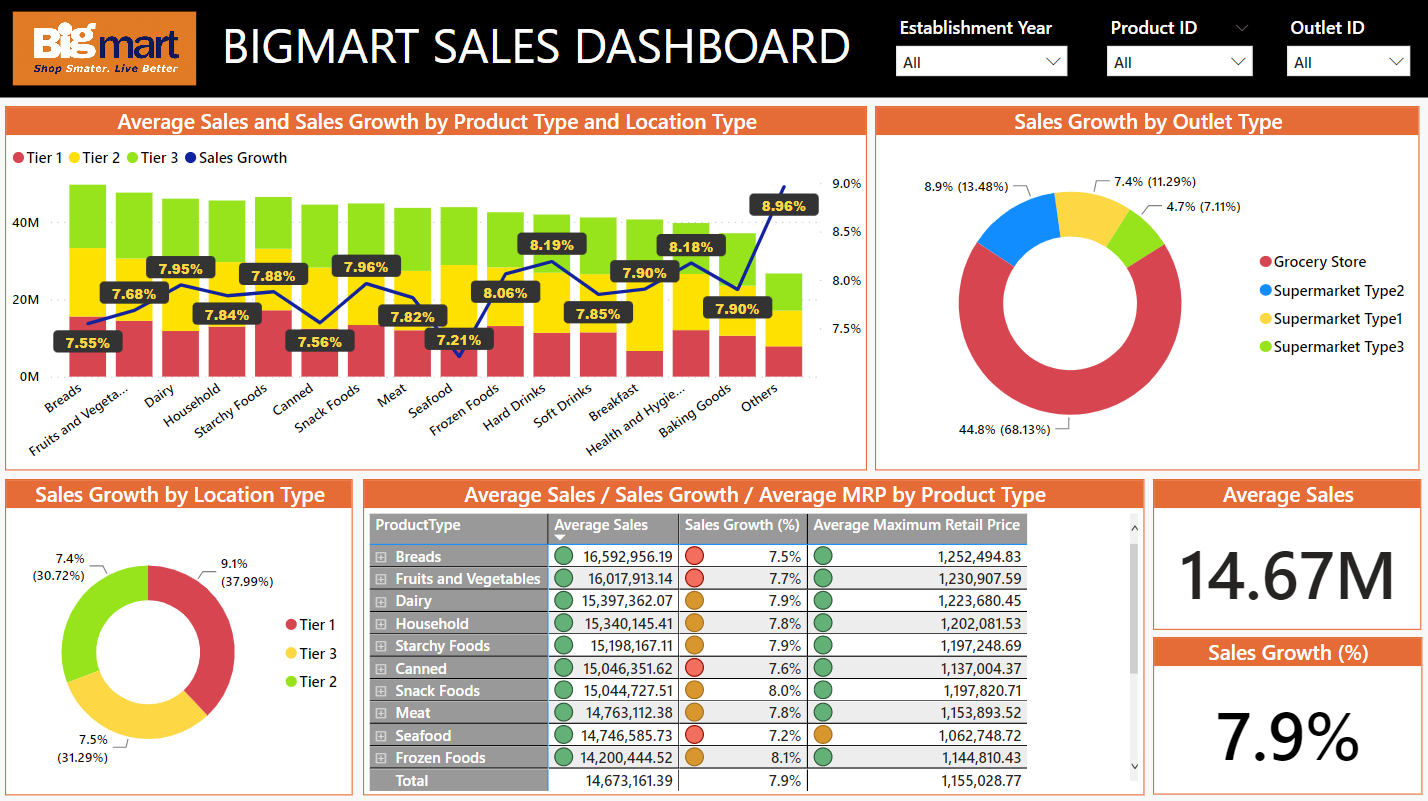

What the dashboard file says about the page in this screenshot:
{"tool":"powerbi","page":{"name":"Page 1","canvas":[1280,720],"ordinal":0},"visuals":[{"type":"shape","box":[0,0,1280,89.5],"z":0},{"type":"image","box":[6.8,6.8,177,75.9],"z":1000},{"type":"textbox","box":[195.5,6.8,589.4,75.9],"z":2000},{"type":"lineStackedColumnComboChart","title":"Average Sales and Sales Growth by Product Type and Location Type","fields":{"Category":["Product.ProductType"],"Series":["Sales.LocationType"],"Y":["Avg(Sales.Sales)"],"Y2":["Sales.Sales Growth (%)"]},"box":[7.2,96.6,771,326.5],"z":3000},{"type":"donutChart","title":"Sales Growth by Outlet Type ","fields":{"Category":["Outlet.OutletType"],"Y":["Sales.Sales Growth (%)"]},"box":[785.3,96.6,487.5,326.5],"z":4000},{"type":"donutChart","title":"Sales Growth by Location Type ","fields":{"Category":["Sales.LocationType"],"Y":["Sales.Sales Growth (%)"]},"box":[6.8,429.9,311.2,283],"z":5000},{"type":"pivotTable","title":"Average Sales / Sales Growth / Average MRP by Product Type","fields":{"Rows":["Product.ProductType","Outlet.OutletType","Sales.LocationType"],"Values":["Avg(Sales.Sales)","Sales.Sales Growth (%)","Avg(Sales.MRP)"]},"box":[327.8,429.9,699.3,283],"z":6000},{"type":"card","title":"Average Sales","fields":{"Values":["Avg(Sales.Sales)"]},"box":[1033.9,429.9,240.2,135.2],"z":7000},{"type":"card","title":"Sales Growth (%)","fields":{"Values":["Sales.Sales Growth (%)"]},"box":[1033.9,571.5,240.6,141.3],"z":8000},{"type":"slicer","fields":{"Values":["Sales.EstablishmentYear"]},"box":[794.7,9.7,173.1,70],"z":9000},{"type":"slicer","fields":{"Values":["Sales.ProductID"]},"box":[983.3,9.7,149.8,70],"z":10000},{"type":"slicer","fields":{"Values":["Sales.OutletID"]},"box":[1143.8,9.7,130.3,70],"z":11000}]}

Visuals, with their boxes in screenshot pixels (x1, y1, x2, y2), scaled from the page's 1280x720 canvas onto the 1428x801 screenshot:
shape: detection(0, 0, 1427, 100)
image: detection(8, 8, 205, 92)
textbox: detection(218, 8, 876, 92)
"Average Sales and Sales Growth by Product Type and Location Type" lineStackedColumnComboChart: detection(8, 107, 868, 471)
"Sales Growth by Outlet Type " donutChart: detection(876, 107, 1420, 471)
"Sales Growth by Location Type " donutChart: detection(8, 478, 355, 793)
"Average Sales / Sales Growth / Average MRP by Product Type" pivotTable: detection(366, 478, 1146, 793)
"Average Sales" card: detection(1153, 478, 1421, 629)
"Sales Growth (%)" card: detection(1153, 636, 1422, 793)
slicer - Sales.EstablishmentYear: detection(887, 11, 1080, 89)
slicer - Sales.ProductID: detection(1097, 11, 1264, 89)
slicer - Sales.OutletID: detection(1276, 11, 1421, 89)
